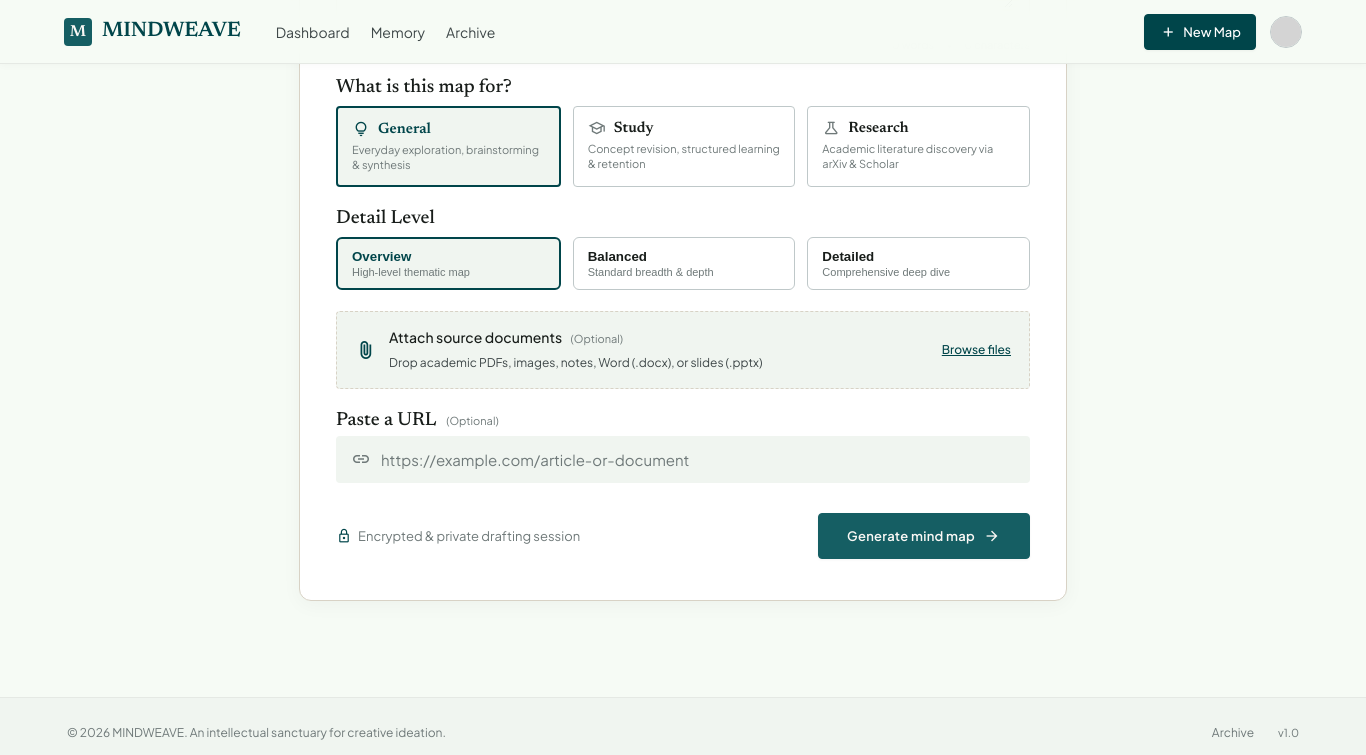
Test case: S3-FE4: Upload UI for New Types (DOCX, PPTX, Seed URL) › Per-URL Validation & Inline Error Messaging › shows error next to URL input when invalid URL format is entered
The width and height of the screenshot is (1366, 755).
(page scrolled)
Type "not-a-valid-http-url" into the field labelled "Paste a URL (Optional)" at coordinates (698, 459), box [381, 437, 1015, 482]
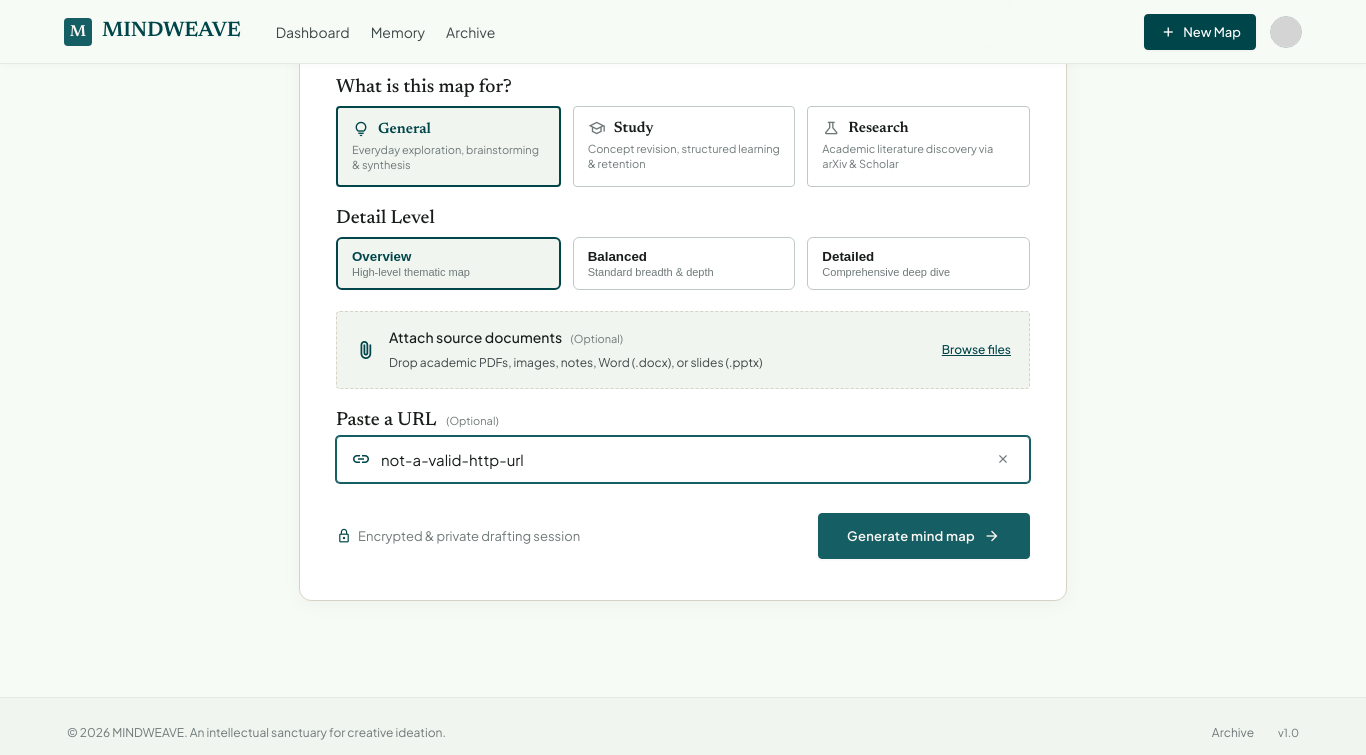
Leave the field labelled "Paste a URL (Optional)", box [381, 437, 981, 482]
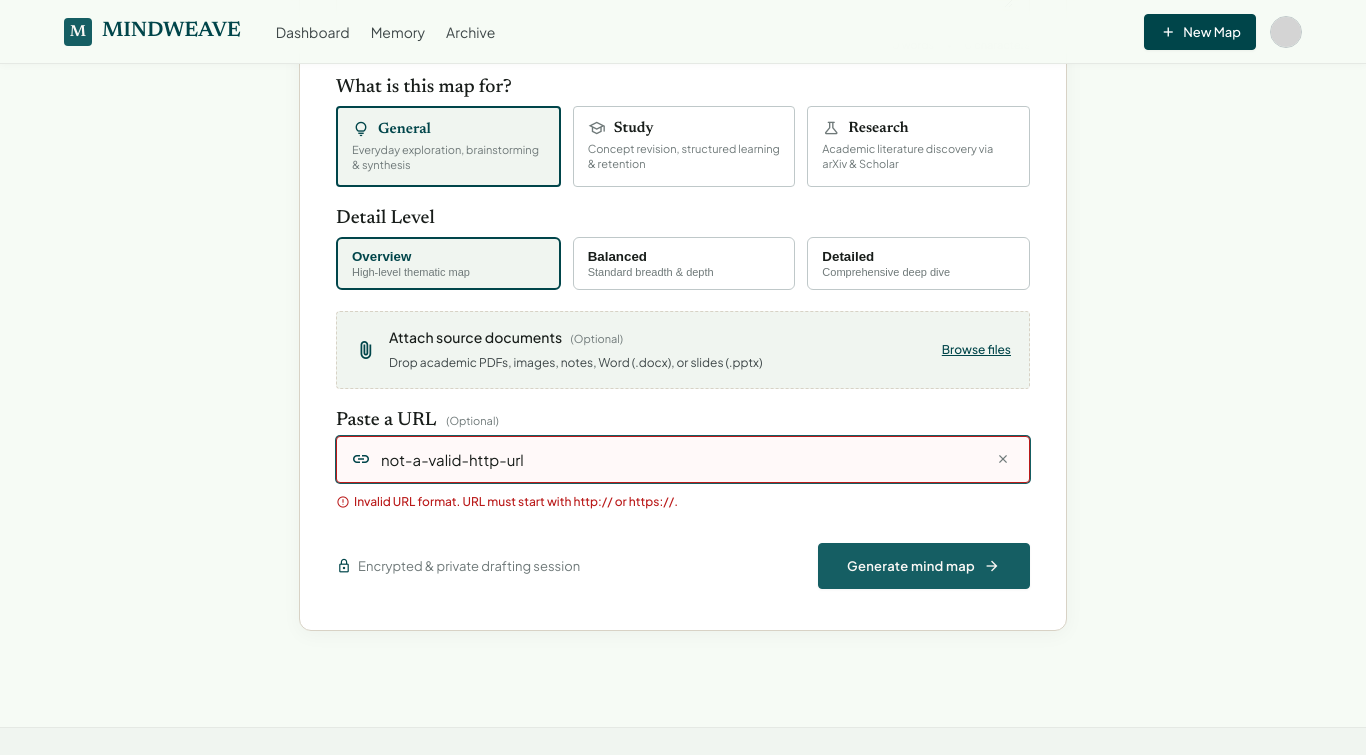
Now the message "Invalid URL format. URL must start with http:// or https://." is shown, box [336, 494, 678, 510]
Now the message with test id "url-error-message" shows "URL must start with http:// or https://", box [354, 494, 678, 509]
